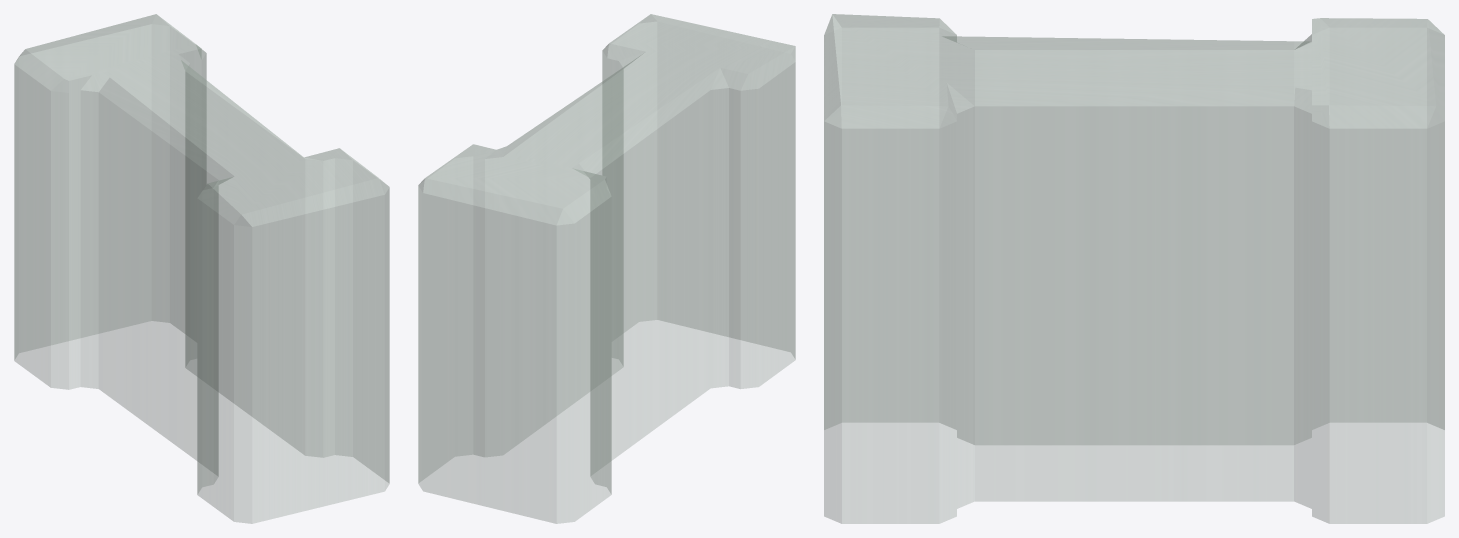
3 views of the same model, side by side, from view 1: azimuth 30°, elevation 25°; view 2: azimuth 150°, elevation 25°; view 3: azimuth 270°, elevation 25° (orthographic). The views are drawn at different scales.
Visible parts, largest first — view 1: I; view 2: I; view 3: I.
Boxes of the visible parts, left/top/right/bottom form: I: left=14, top=14, right=389, bottom=523; I: left=418, top=14, right=795, bottom=523; I: left=824, top=14, right=1444, bottom=523.
Size of the model in its own units: 0.2322 by 0.44 by 0.6019.
1 material, 1 textured.
